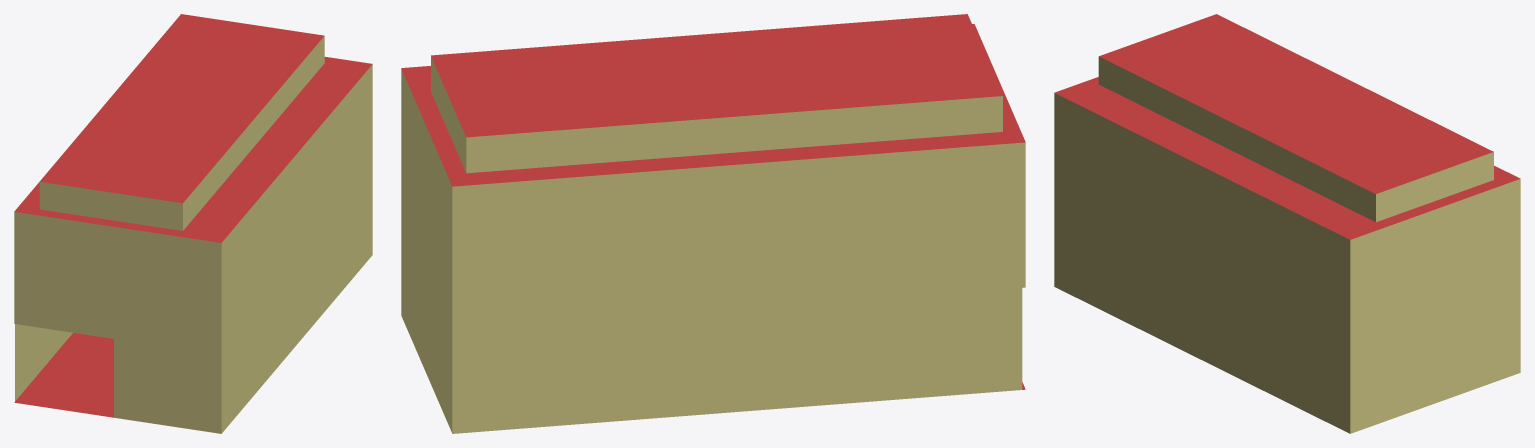
3 renders of one model, left to right at view 1: azimuth 30°, elevation 25°; view 2: azimuth 150°, elevation 25°; view 3: azimuth 270°, elevation 25°, orthographic. The views are drawn at different scales.
Visible parts, largest first — view 1: group_6, group_4, group_3, group_5, group_7; view 2: group_6, group_4, group_5, group_3; view 3: group_6, group_4, group_5, group_3.
Part boxes in pixels (bbox=[...]): group_6: bbox=[14, 64, 372, 433]; group_4: bbox=[40, 14, 323, 203]; group_3: bbox=[14, 56, 372, 242]; group_5: bbox=[39, 36, 324, 230]; group_7: bbox=[14, 333, 113, 417]; group_6: bbox=[401, 69, 1025, 433]; group_4: bbox=[431, 14, 1002, 137]; group_5: bbox=[431, 56, 1002, 173]; group_3: bbox=[401, 24, 1025, 186]; group_6: bbox=[1054, 93, 1520, 433]; group_4: bbox=[1099, 14, 1493, 193]; group_5: bbox=[1098, 56, 1493, 222]; group_3: bbox=[1054, 77, 1520, 239].
Bounding box in the file's own units: 30.67 × 29.01 × 15.24.
